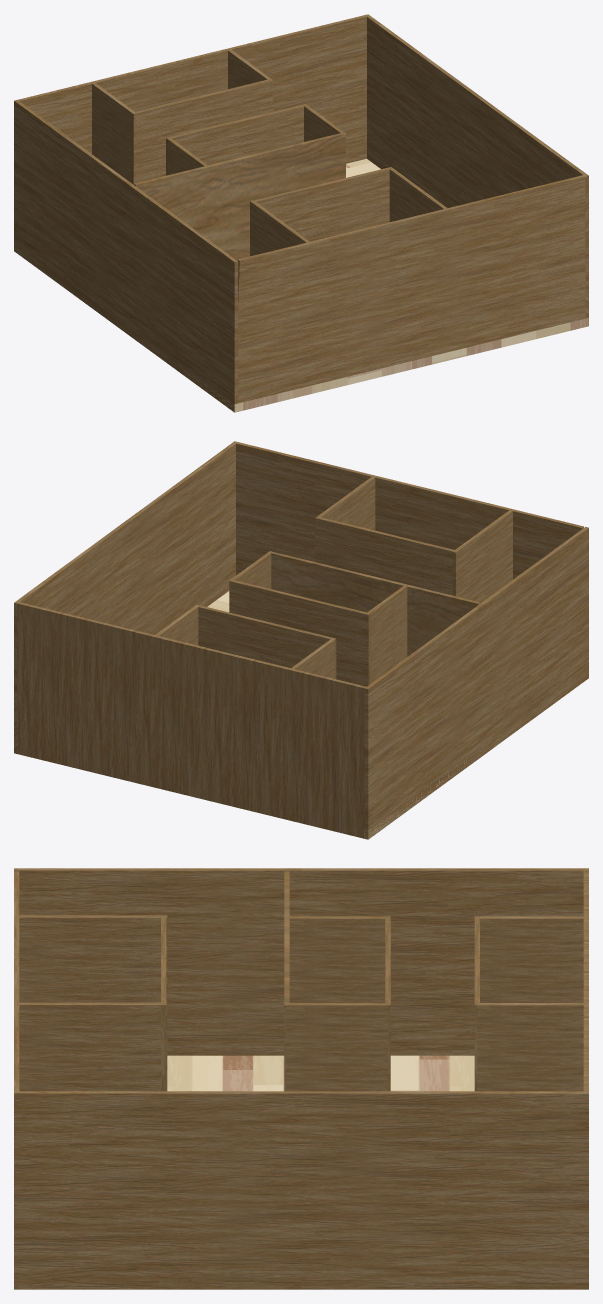
Rendered from gimmick1.fbx.
The picture shows the model from 3 angles, top to bottom: view 1: azimuth 30°, elevation 25°; view 2: azimuth 150°, elevation 25°; view 3: azimuth 270°, elevation 25°; orthographic projection. The views are drawn at different scales.
Visible parts, largest first — view 1: wall2, wall3, wall4, wall1, wall5, wall12, wall6, wall11, floor, wall14, wall7, wall10 (+3 smaller); view 2: wall1, wall3, wall4, wall2, wall5, wall6, wall11, wall12, wall7, wall13, wall10, wall9 (+2 smaller); view 3: wall4, wall3, wall7, wall10, wall9, wall8, wall14, wall13, floor, wall2, wall1, wall6 (+3 smaller).
Part boxes in pixels (x1,y1,x2,y2): wall2: (237, 174, 587, 403); wall3: (14, 100, 238, 412); wall4: (365, 14, 588, 325); wall1: (18, 15, 366, 163); wall5: (134, 133, 345, 260); wall12: (131, 79, 272, 184); wall6: (252, 167, 392, 241); wall11: (166, 104, 306, 175); floor: (166, 158, 588, 412); wall14: (91, 82, 135, 182); wall7: (250, 200, 310, 256); wall10: (388, 167, 448, 221); wall1: (17, 602, 366, 838); wall3: (364, 527, 588, 839); wall4: (14, 441, 237, 753); wall2: (233, 442, 583, 579); wall5: (268, 551, 480, 656); wall6: (315, 516, 456, 595); wall11: (229, 580, 370, 686); wall12: (196, 604, 336, 679); wall7: (452, 509, 513, 603); wall13: (366, 584, 408, 683); wall10: (316, 476, 375, 530); wall9: (154, 605, 198, 645); wall4: (14, 1091, 588, 1289); wall3: (14, 868, 588, 1055); wall7: (17, 915, 167, 1091); wall10: (17, 1002, 166, 1091); wall9: (477, 1003, 586, 1091); wall8: (285, 1003, 387, 1091); wall14: (477, 916, 586, 1002); wall13: (286, 916, 387, 1002); floor: (167, 1055, 474, 1091); wall2: (14, 871, 19, 1091); wall1: (583, 870, 588, 1091); wall6: (161, 916, 166, 1091).
Bounding box in the file's own units: 2489 × 2685 × 1011.
